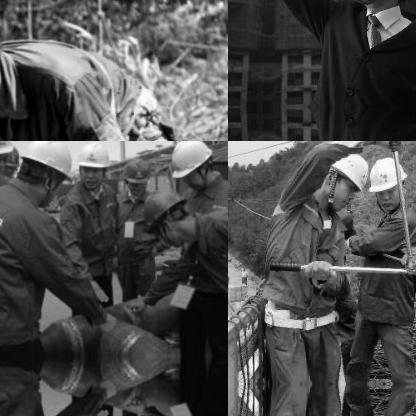Helmet: (321, 144, 377, 208), (140, 187, 194, 241), (17, 141, 69, 197), (172, 141, 219, 191), (366, 149, 400, 213), (75, 141, 111, 187), (121, 156, 149, 194)
